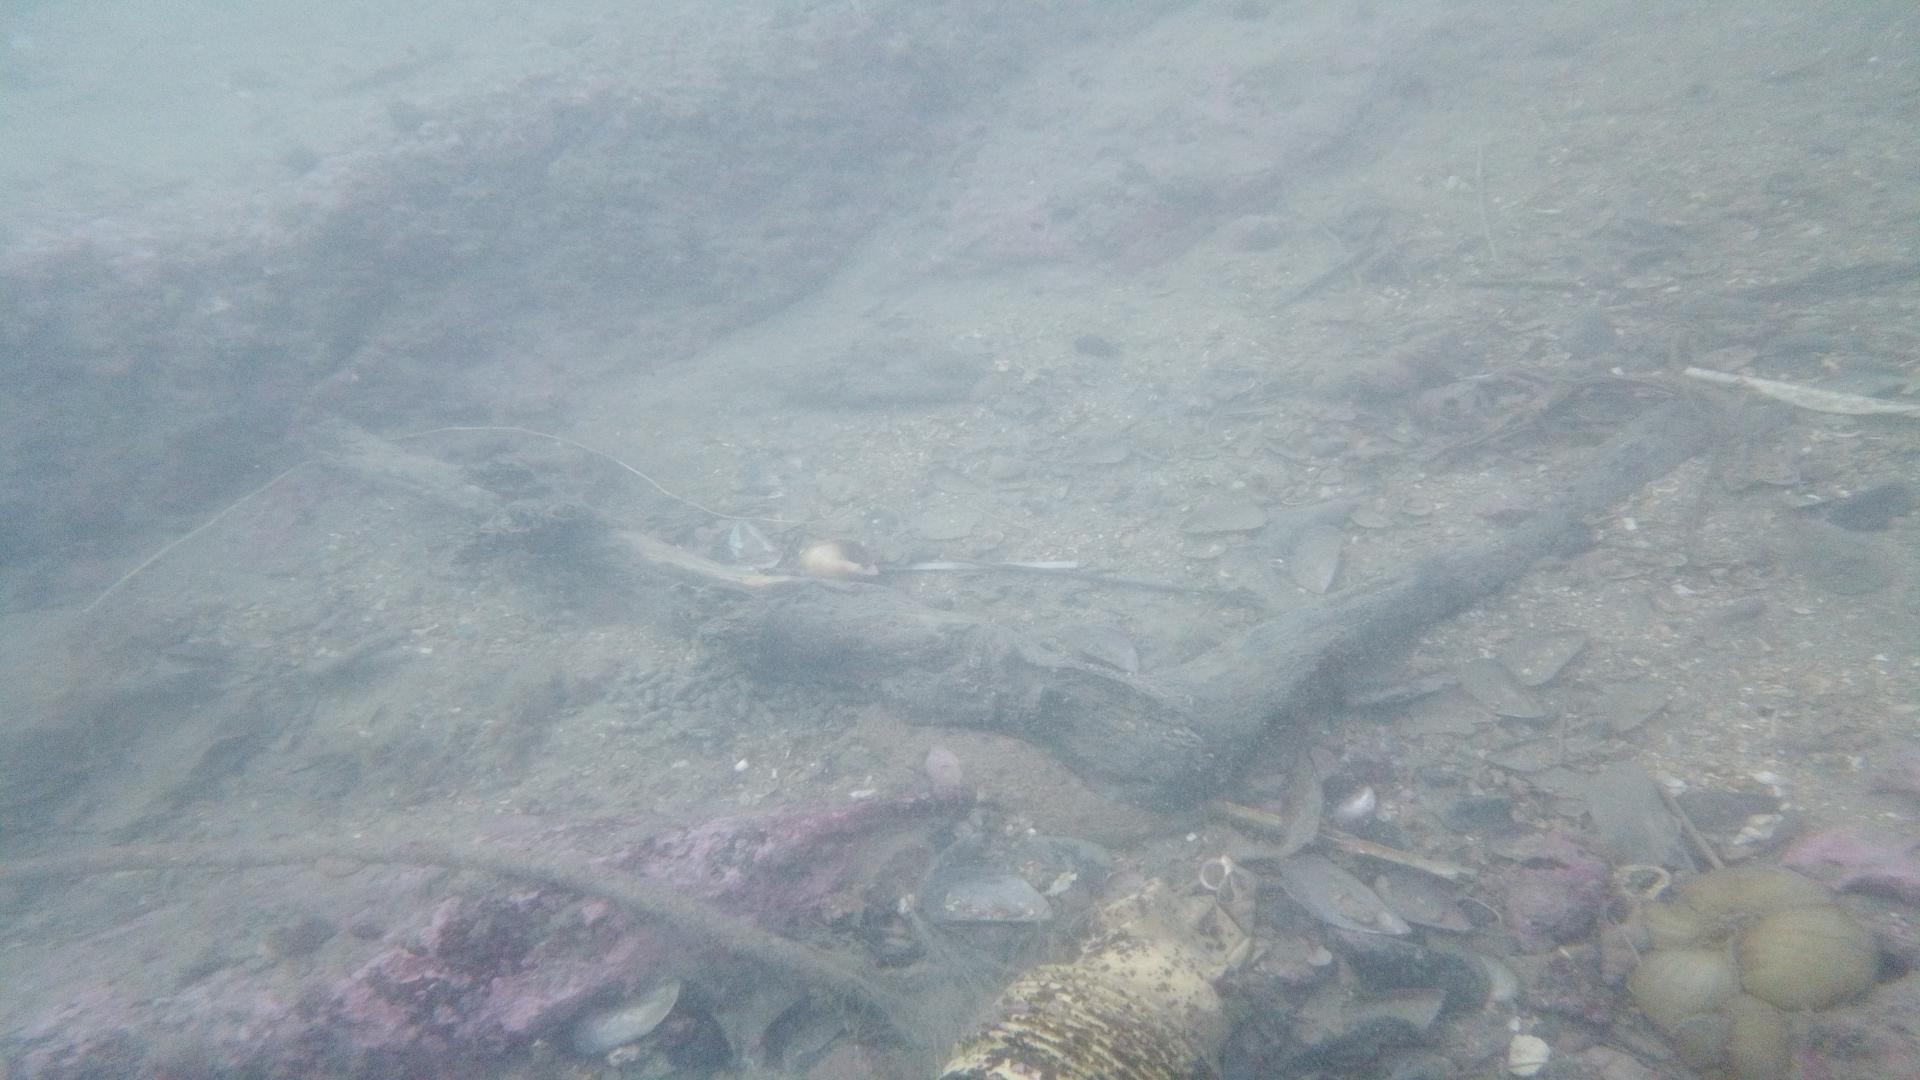rope: (0, 832, 874, 1004)
wood: (295, 396, 1717, 810)
